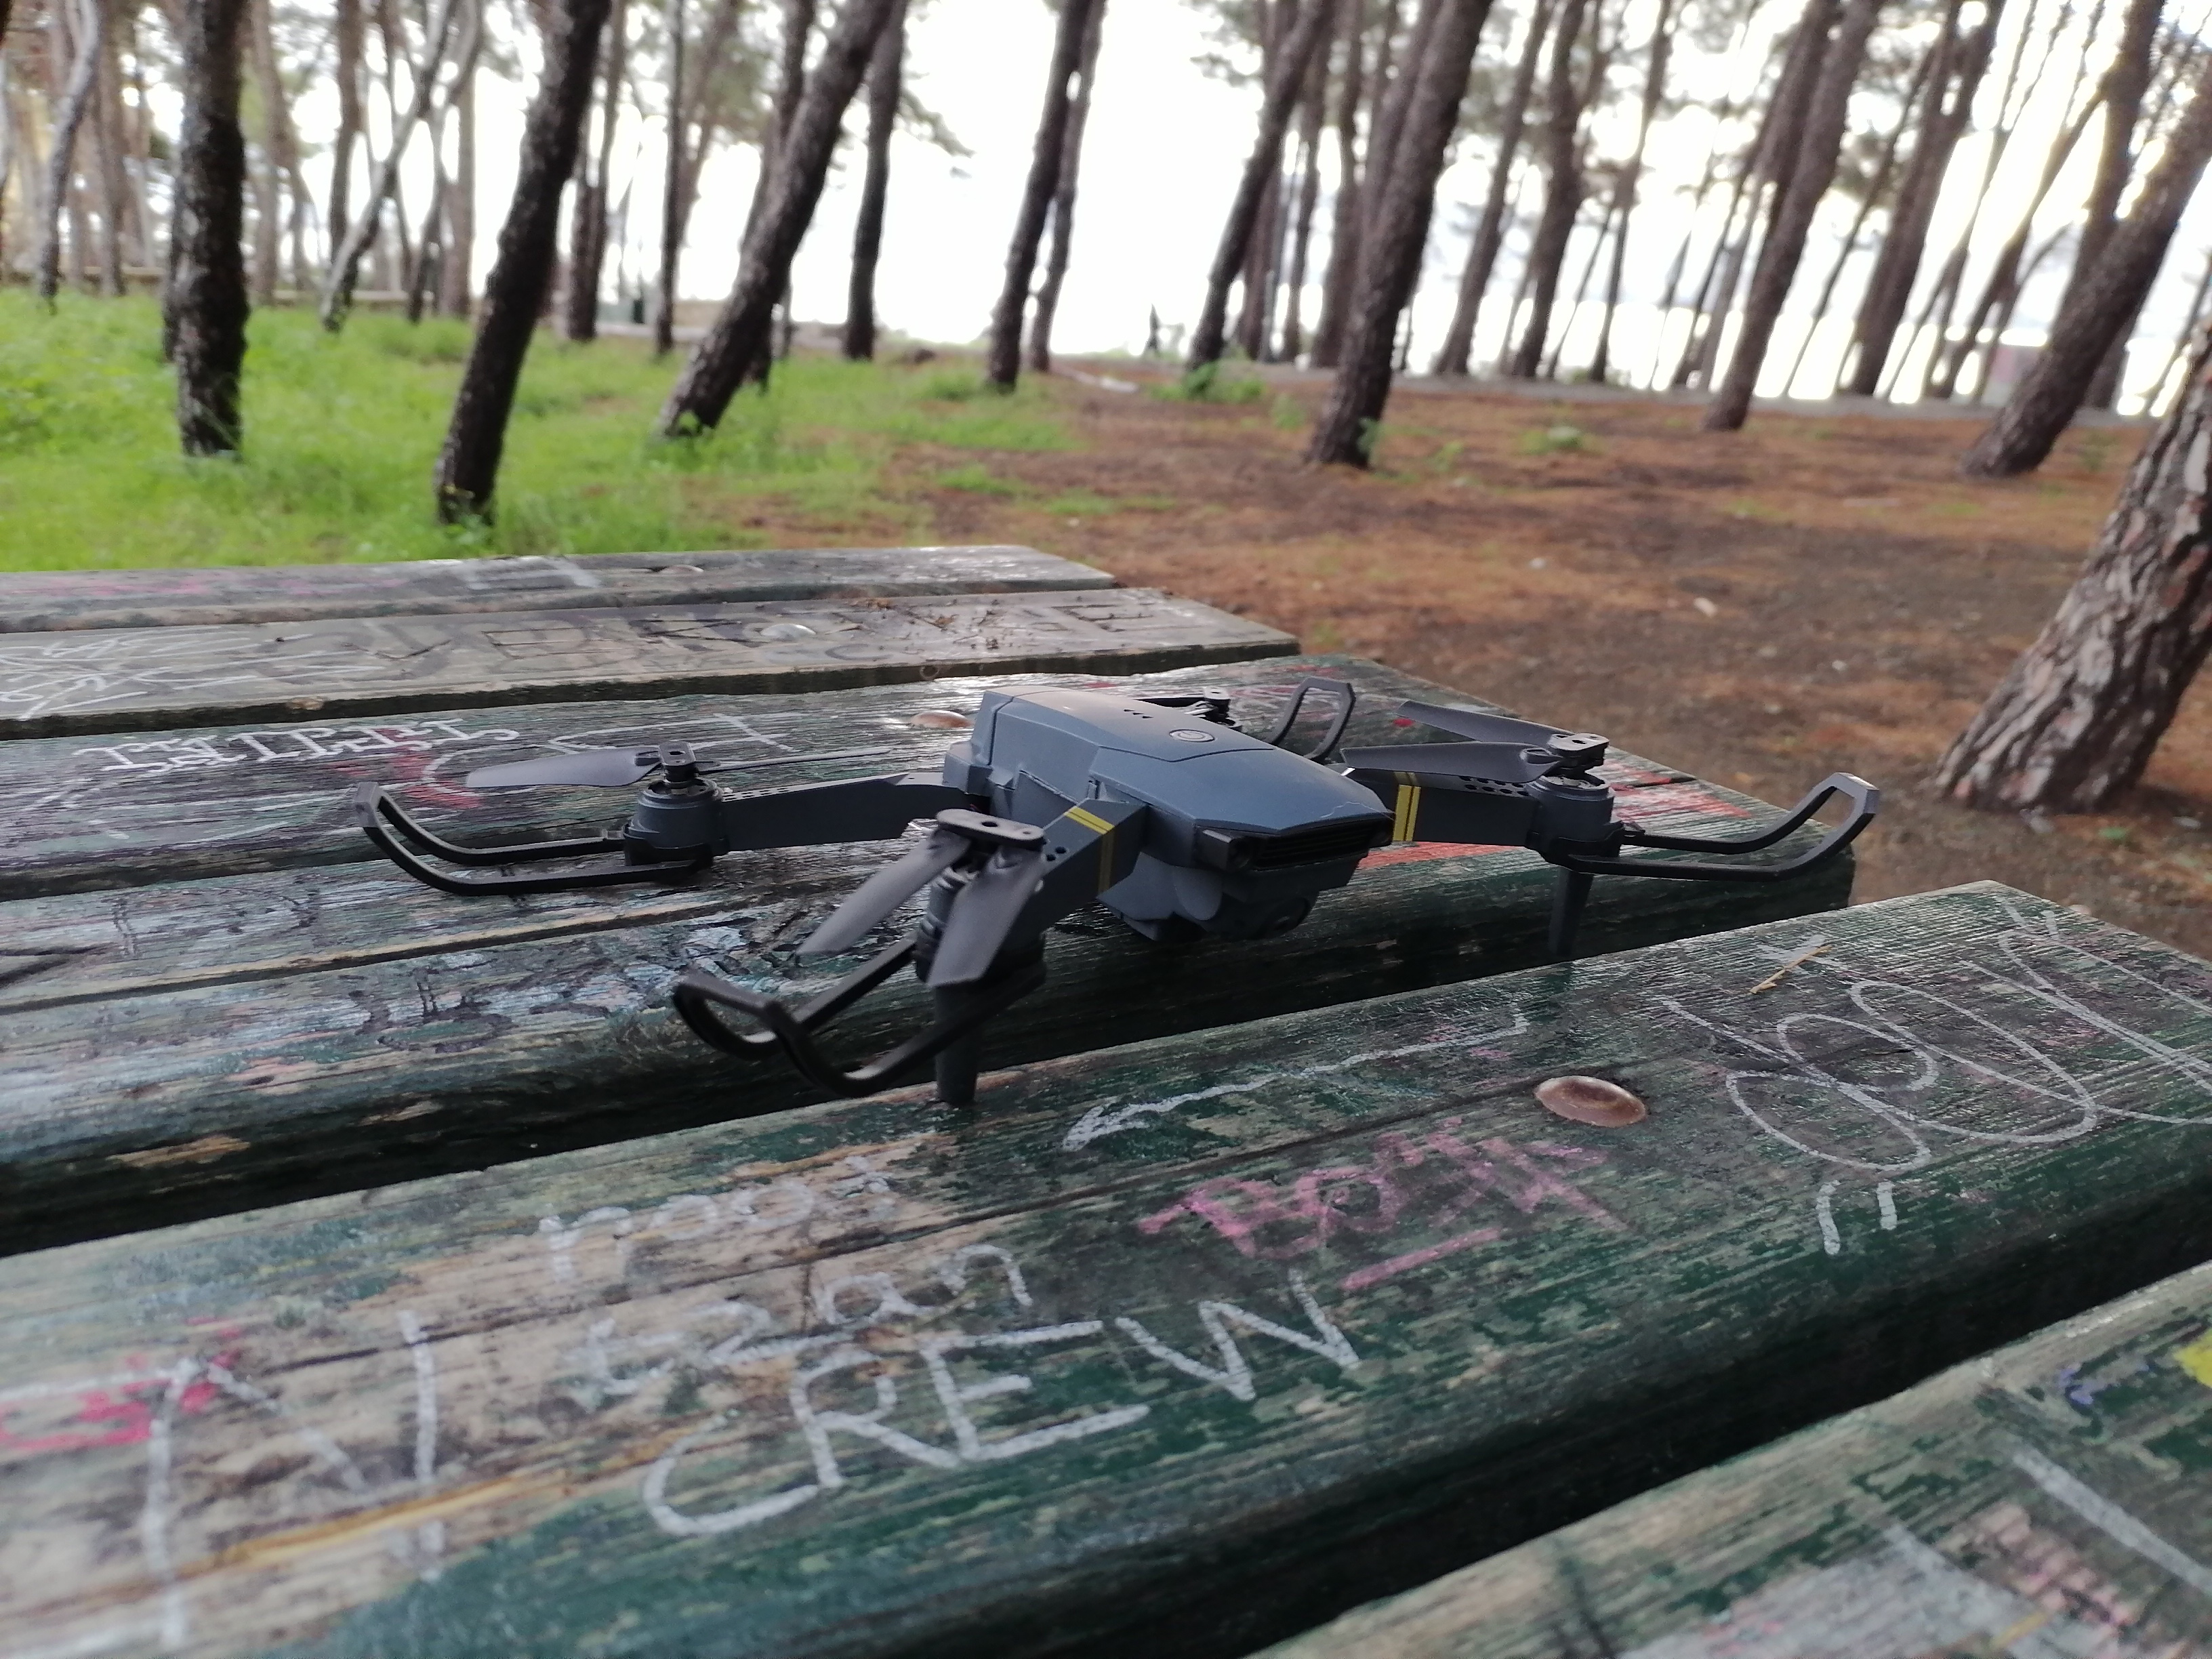drone: (401, 704, 1897, 1042)
